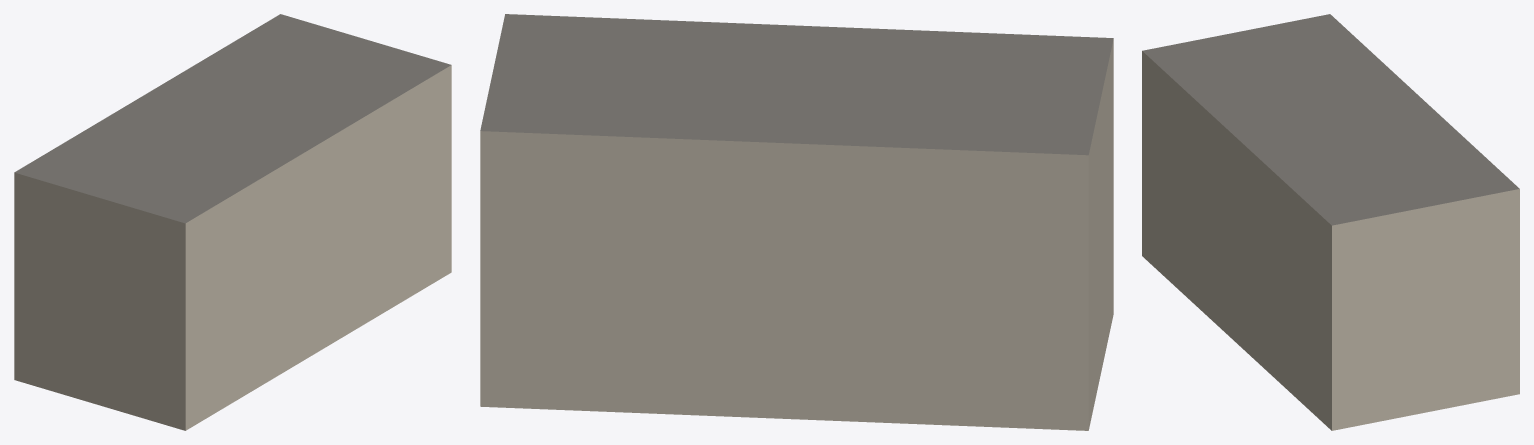
The picture shows the model from 3 angles, left to right: view 1: azimuth 30°, elevation 25°; view 2: azimuth 150°, elevation 25°; view 3: azimuth 270°, elevation 25°; orthographic projection. The views are drawn at different scales.
Visible parts, largest first — view 1: HP-w369342564; view 2: HP-w369342564; view 3: HP-w369342564.
Part boxes in pixels (bbox=[...]): HP-w369342564: bbox=[14, 14, 451, 430]; HP-w369342564: bbox=[480, 14, 1113, 430]; HP-w369342564: bbox=[1142, 14, 1519, 430].
Bounding box in the file's own units: 39.79 × 18 × 30.01.
